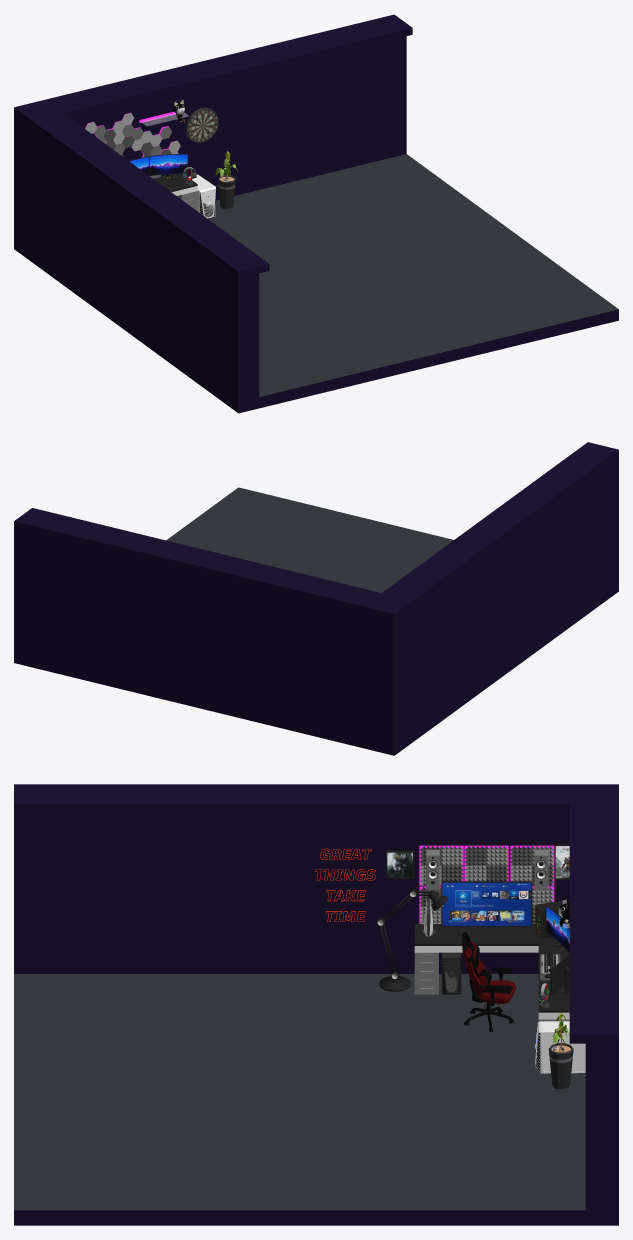
Rendered from server.glb.
3 views of the same model, one above another, from view 1: azimuth 30°, elevation 25°; view 2: azimuth 150°, elevation 25°; view 3: azimuth 270°, elevation 25° (orthographic). The views are drawn at different scales.
Parts seen in each view (by area): view 1: Cube, WallLED, dartboard, Monitor3, Vase, Cube.001; view 2: Cube; view 3: Cube, Cube.001, TV, Chair, Cube.005, Cube.034, Cube.006, Vase, Cube.037, case.002, Neon Light Text Wall, case.001 (+3 smaller).
Boxes of the visible parts, x1,y1,x2,y2 form: Cube: (14, 14, 618, 413); WallLED: (85, 112, 180, 178); dartboard: (185, 108, 218, 142); Monitor3: (149, 154, 187, 181); Vase: (215, 151, 237, 209); Cube.001: (153, 174, 197, 195); Cube: (14, 442, 618, 755); Cube: (14, 784, 618, 1225); Cube.001: (414, 924, 569, 1019); TV: (441, 881, 531, 932); Chair: (462, 932, 515, 1031); Cube.005: (464, 845, 508, 881); Cube.034: (419, 845, 463, 885); Cube.006: (510, 845, 554, 885); Vase: (548, 1013, 573, 1089); Cube.037: (376, 889, 448, 991); case.002: (542, 1021, 585, 1073); Neon Light Text Wall: (315, 848, 375, 921); case.001: (441, 953, 461, 994).
Bounding box in the file's own units: 5.4 × 1.92 × 5.52.
Materials: 51 (12 with a texture image).
